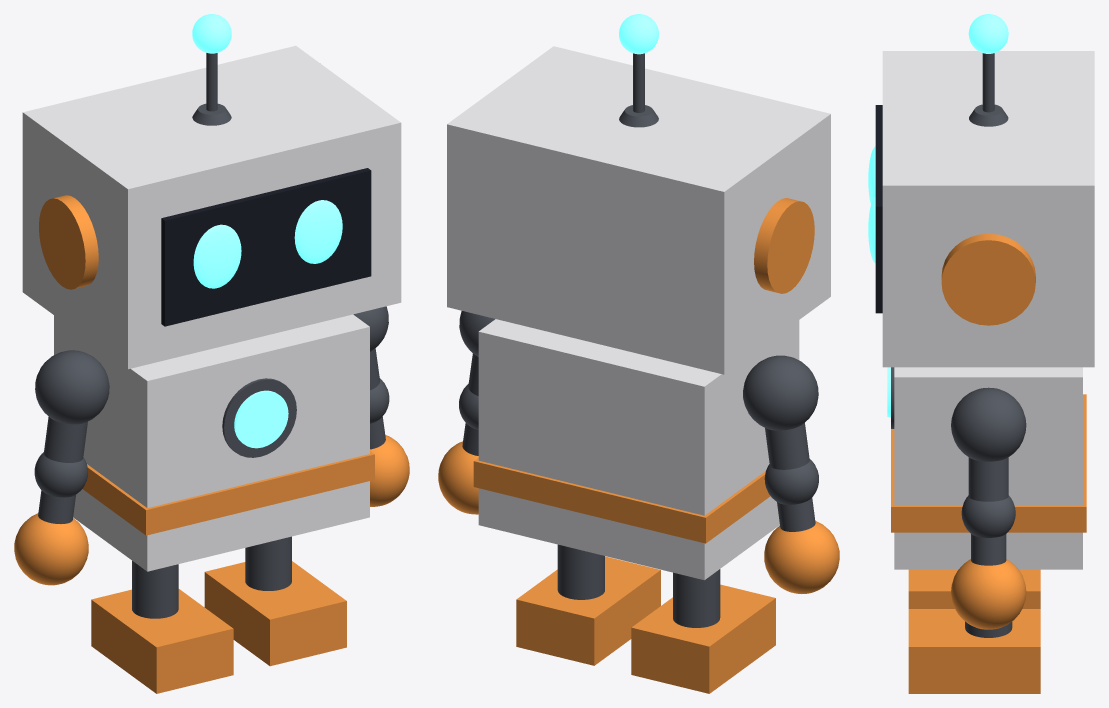
Rendered from bolt_robot.glb.
3 views of the same model, side by side, from view 1: azimuth 30°, elevation 25°; view 2: azimuth 150°, elevation 25°; view 3: azimuth 270°, elevation 25° (orthographic).
Parts seen in each view (by area): view 1: Head, Body, Visor, Foot.L, Foot.R, Belt, Arm.L, Ear.L, Hand.L, Forearm.L, ChestLight, Eye.L (+9 smaller); view 2: Head, Body, Foot.L, Foot.R, Belt, Arm.L, Ear.L, Hand.L, Forearm.L, Leg.L, Leg.R, Hand.R (+4 smaller); view 3: Head, Body, Foot.R, Ear.R, Arm.R, Belt, Hand.R, Forearm.R, Foot.L, Visor, Antenna, AntennaTip (+3 smaller).
Part boxes in pixels (x1,y1,x2,y2): Head: [22, 45, 401, 369]; Body: [54, 314, 369, 571]; Visor: [161, 168, 371, 326]; Foot.L: [91, 589, 233, 693]; Foot.R: [204, 561, 346, 666]; Belt: [82, 451, 374, 535]; Arm.L: [35, 350, 109, 462]; Ear.L: [39, 195, 98, 289]; Hand.L: [14, 513, 88, 585]; Forearm.L: [34, 452, 87, 523]; ChestLight: [234, 390, 288, 448]; Eye.L: [193, 224, 241, 288]; Head: [447, 46, 830, 374]; Body: [478, 319, 799, 580]; Foot.L: [631, 584, 775, 693]; Foot.R: [516, 556, 660, 665]; Belt: [473, 458, 770, 543]; Arm.L: [743, 355, 818, 469]; Ear.L: [754, 198, 814, 293]; Hand.L: [764, 521, 839, 593]; Forearm.L: [764, 459, 818, 531]; Leg.L: [673, 569, 720, 627]; Leg.R: [557, 544, 604, 599]; Hand.R: [438, 441, 478, 514]; Head: [882, 51, 1094, 367]; Body: [894, 367, 1082, 569]; Foot.R: [908, 609, 1040, 693]; Ear.R: [941, 233, 1035, 325]; Arm.R: [951, 387, 1026, 501]; Belt: [891, 394, 1086, 532]; Hand.R: [951, 559, 1026, 629]; Forearm.R: [961, 495, 1015, 565]; Foot.L: [908, 569, 1040, 608]; Visor: [875, 105, 882, 313]; Antenna: [969, 53, 1008, 126]; AntennaTip: [968, 14, 1008, 53].
Size of what is drawn, in the model's own units: 1.91 by 2.95 by 0.961.
